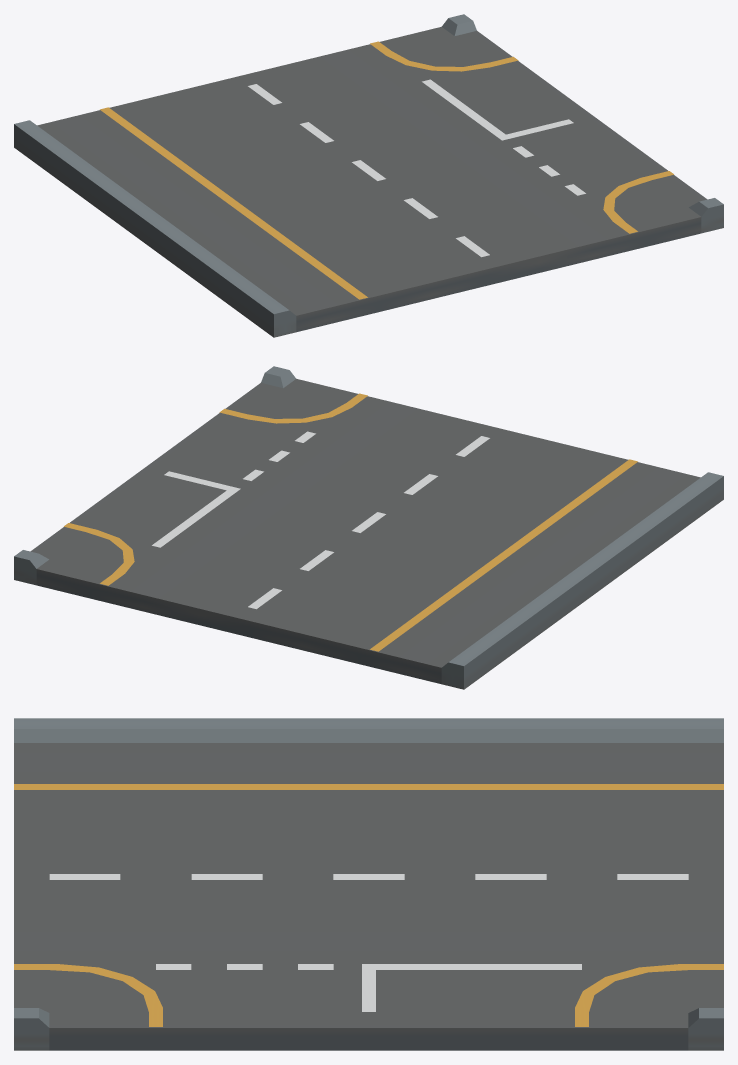
The model's file is road_tsplit.gltf.
The picture shows the model from 3 angles, top to bottom: view 1: azimuth 30°, elevation 25°; view 2: azimuth 150°, elevation 25°; view 3: azimuth 270°, elevation 25°; orthographic projection. The views are drawn at different scales.
Parts seen in each view (by area): view 1: road_tsplit; view 2: road_tsplit; view 3: road_tsplit.
Boxes of the visible parts, x1,y1,x2,y2 form: road_tsplit: [14, 14, 723, 337]; road_tsplit: [14, 366, 723, 689]; road_tsplit: [14, 718, 723, 1050].
Size of the model in its own units: 2 by 0.1 by 2.
1 material, 1 textured.
